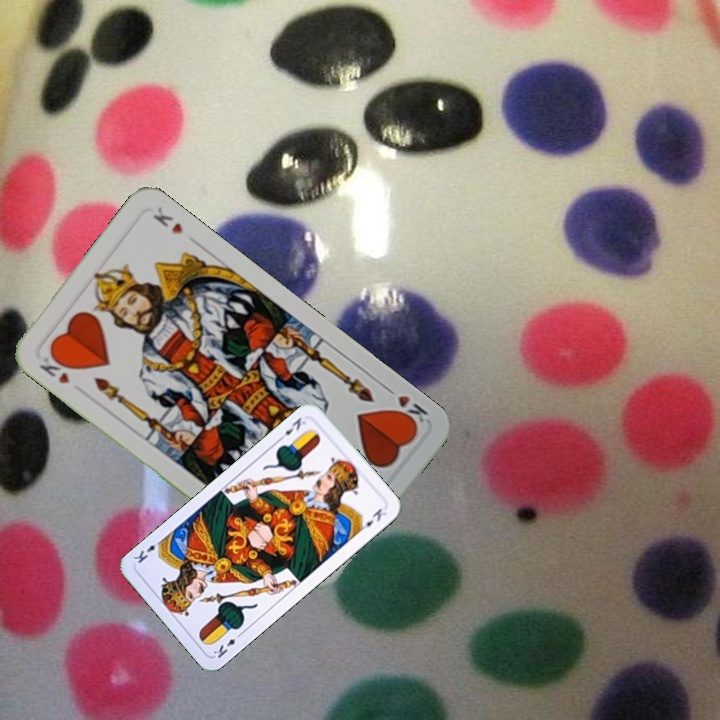EK: (209, 628, 245, 661), (275, 413, 309, 443)
HK: (380, 381, 431, 430), (35, 347, 75, 387)
